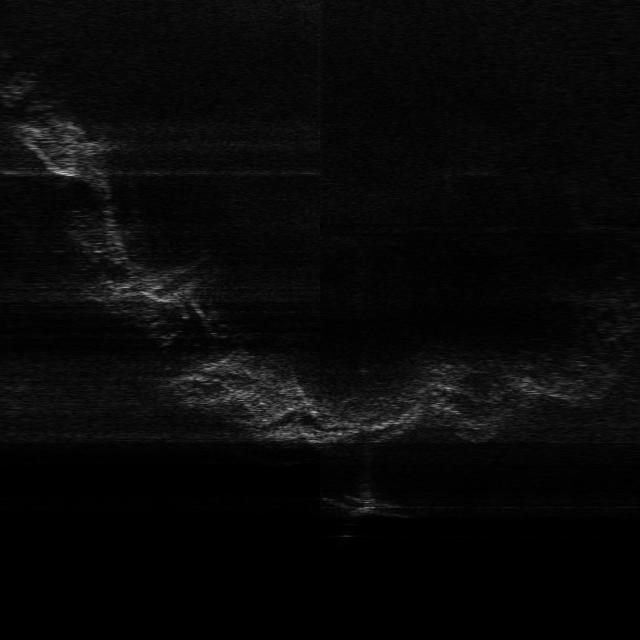plane: (322, 493, 408, 520)
